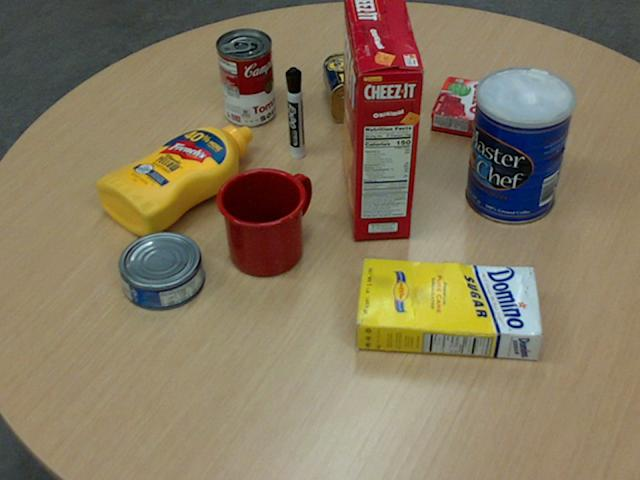cracker_box: (339, 0, 422, 238)
gelatin_box: (430, 74, 502, 138)
large_marker: (285, 66, 303, 158)
master_chef_can: (465, 67, 574, 225)
mug: (214, 167, 310, 276)
mustard_bottle: (95, 124, 251, 235)
potted_meat_can: (323, 48, 410, 122)
sugar_box: (354, 259, 543, 360)
tomato_soup_can: (216, 26, 275, 125)
tuna_fish_can: (116, 231, 203, 310)
